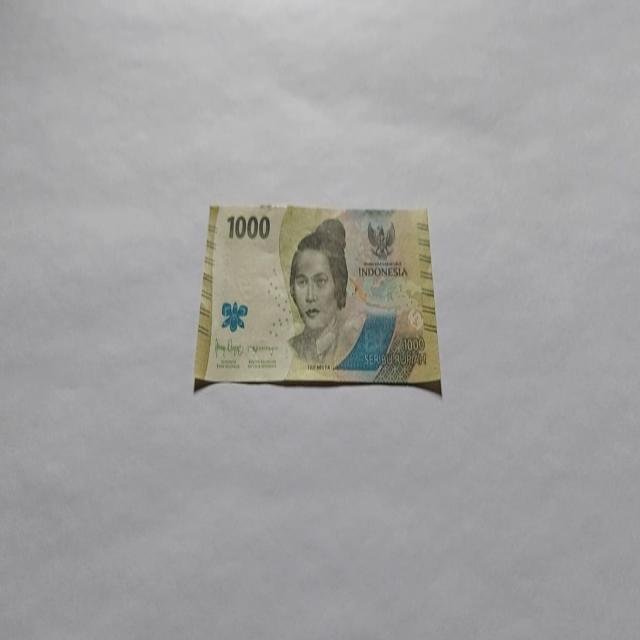seribu rupiah kertas: (192, 202, 442, 396)
